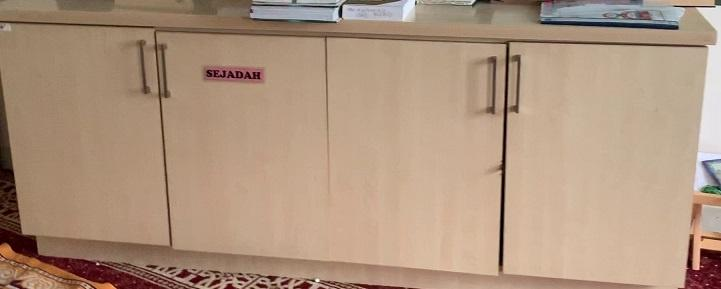cabinet_door: (510, 48, 702, 281), (336, 46, 508, 268), (160, 42, 323, 256), (0, 29, 156, 247)
handle: (156, 39, 174, 102), (135, 38, 154, 95), (485, 53, 500, 120), (510, 53, 524, 116)
